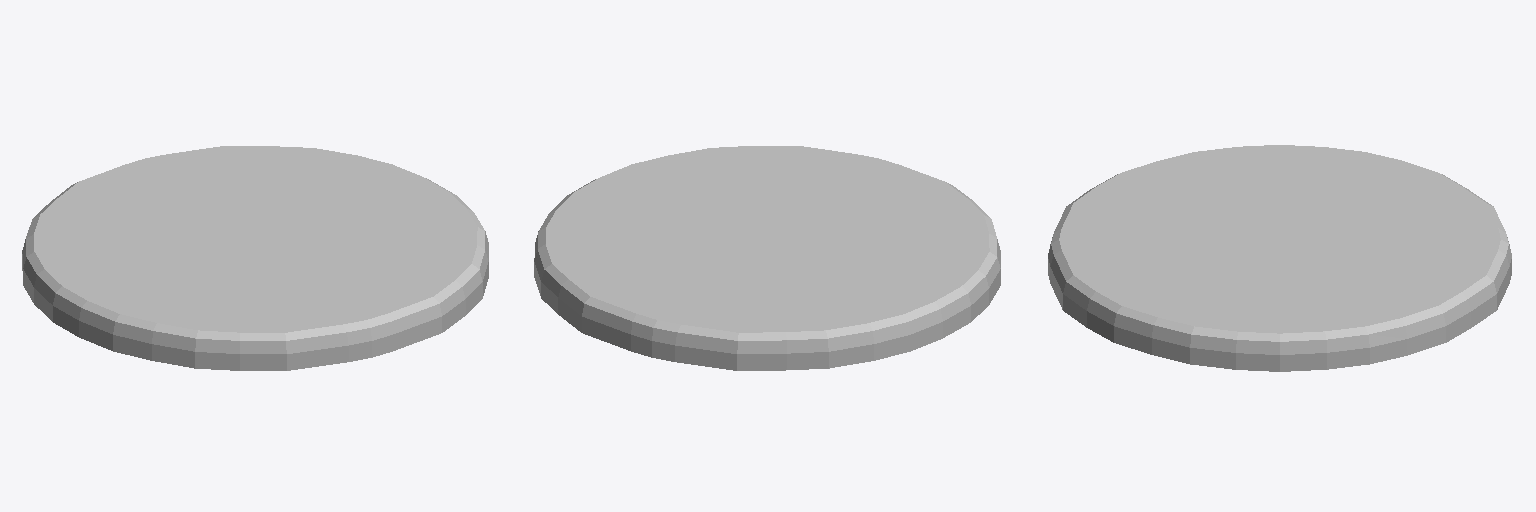
File: GalletaUno.obj
3 renders of one model, left to right at view 1: azimuth 30°, elevation 25°; view 2: azimuth 150°, elevation 25°; view 3: azimuth 270°, elevation 25°, orthographic.
Visible parts, largest first — view 1: polySurface222 polySurface8; view 2: polySurface222 polySurface8; view 3: polySurface222 polySurface8.
Part boxes in pixels (bbox=[...]): polySurface222 polySurface8: bbox=[22, 146, 488, 370]; polySurface222 polySurface8: bbox=[534, 146, 1000, 370]; polySurface222 polySurface8: bbox=[1048, 145, 1511, 371].
Size of the model in its own units: 0.2226 by 0.0176 by 0.2202.